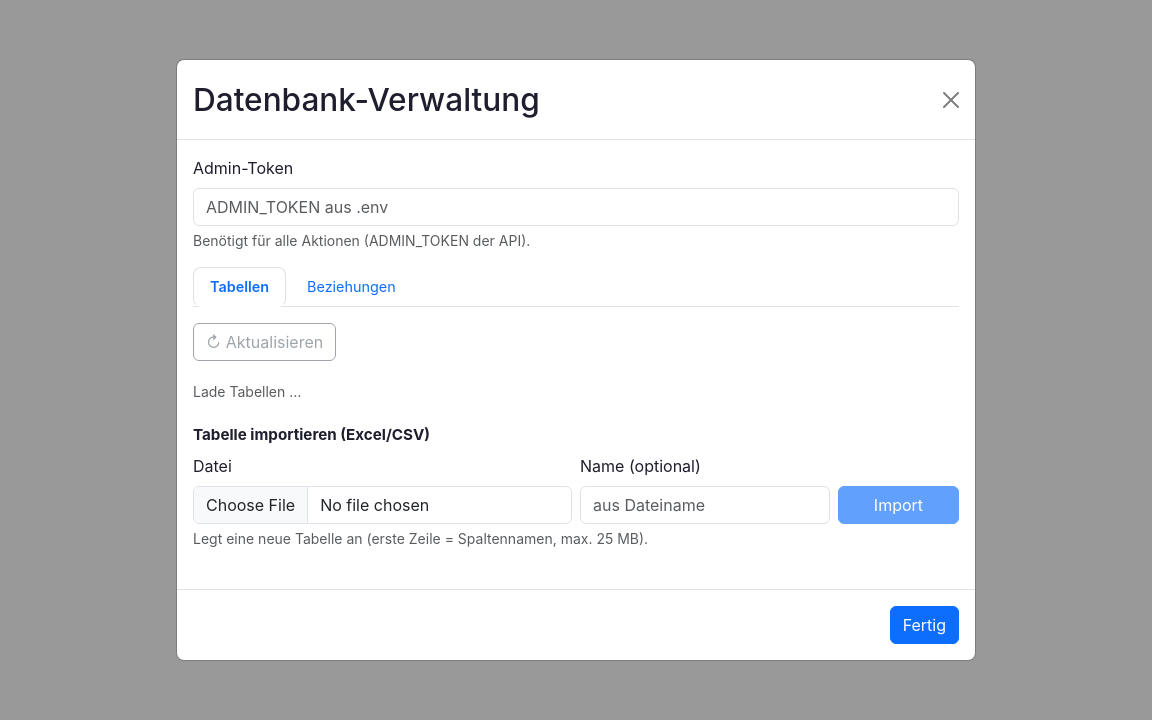
Test: AdminPanel – relations › lists relations after switching to the relations tab
Click the tab "Beziehungen".
click(351, 287)  # box [290,268,413,307]
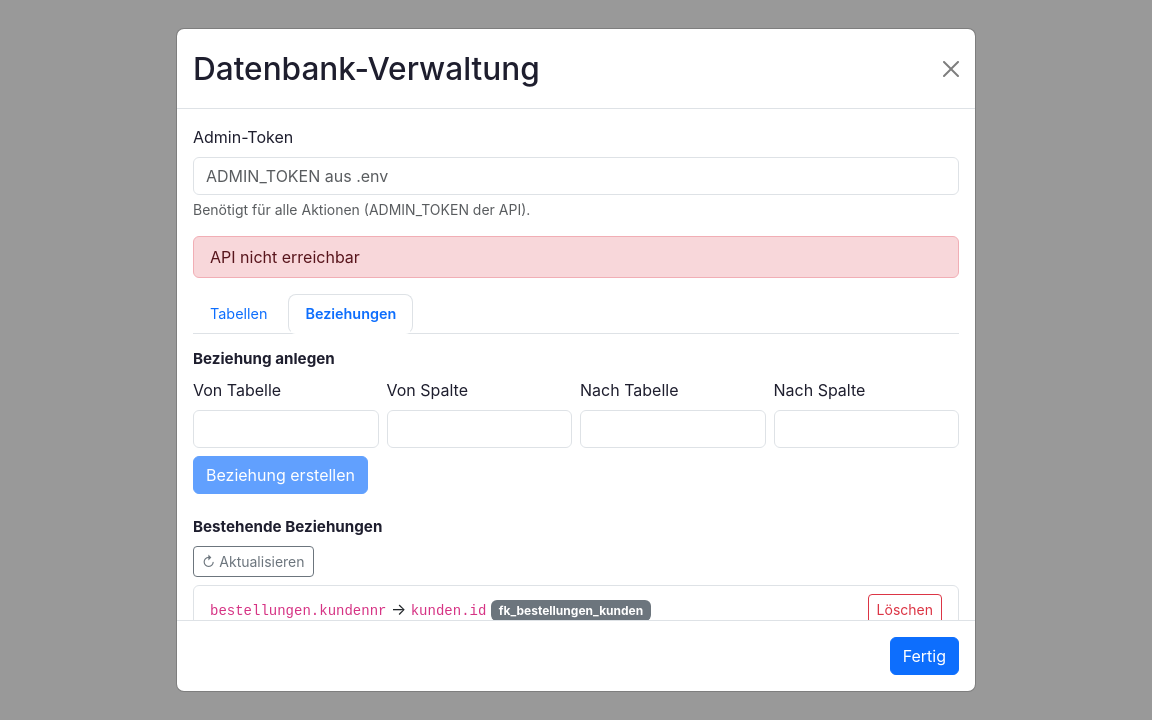
Expected: the text "fk_bestellungen_kunden" is shown, [491,600,651,620]
Expected: the text "bestellungen.kundennr" is shown, [210,603,386,619]
